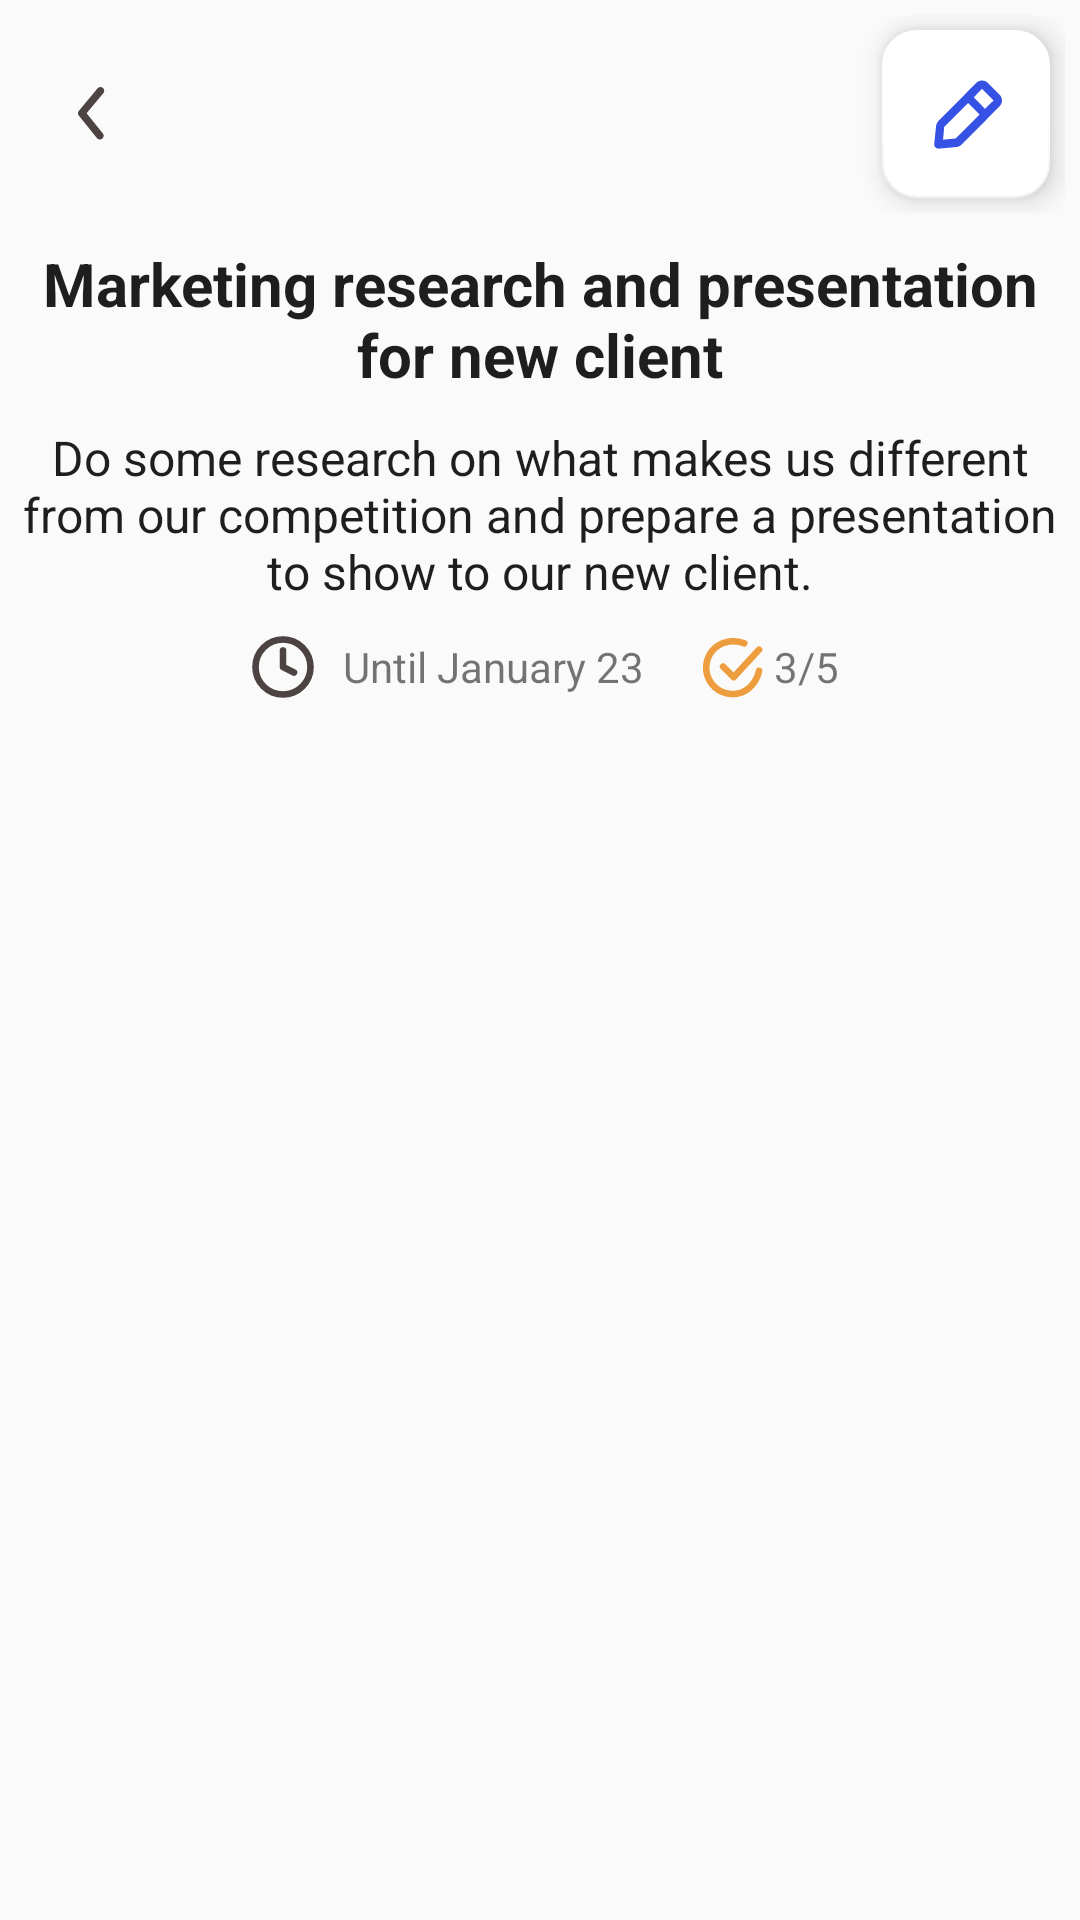

Where icons sit on this 1080px×1920px app screen, as (x1=x1, y1=y1, x2=x2, y2=y2):
done: (x1=703, y1=638, x2=763, y2=698)
edit: (x1=882, y1=30, x2=1050, y2=198)
